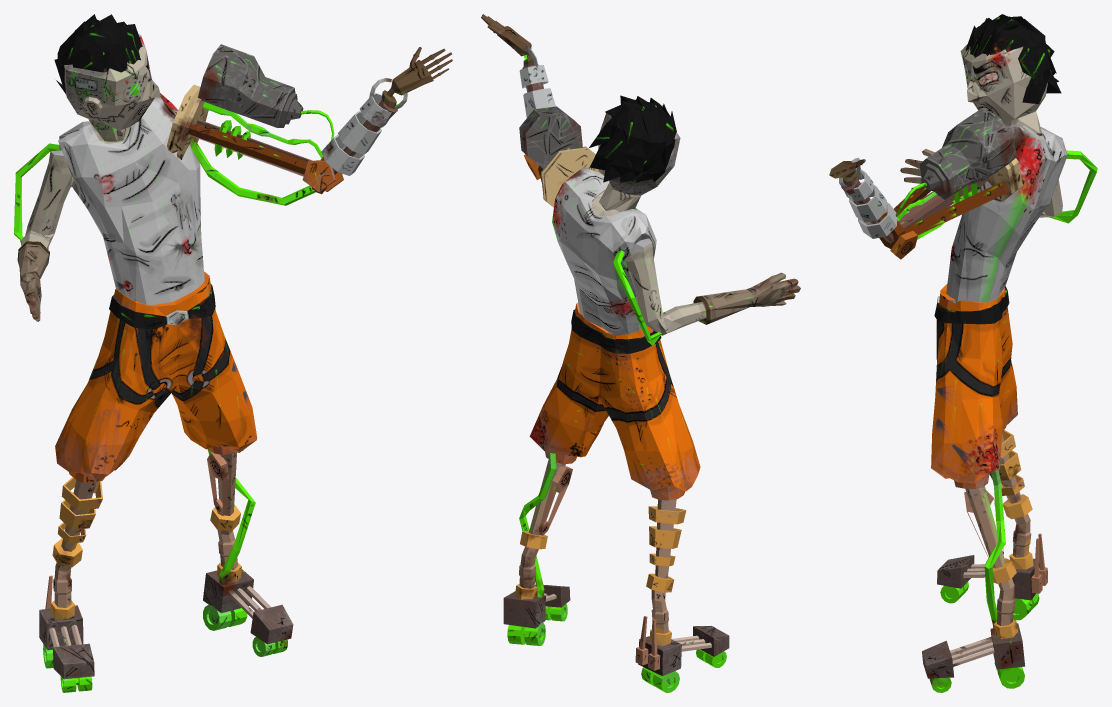
Rendered from CyborgFINALAnimation_000047.obj.
3 views of the same model, side by side, from view 1: azimuth 30°, elevation 25°; view 2: azimuth 150°, elevation 25°; view 3: azimuth 270°, elevation 25° (orthographic). The views are drawn at different scales.
Parts seen in each view (by area): view 1: CyborgMesh_Cube.002; view 2: CyborgMesh_Cube.002; view 3: CyborgMesh_Cube.002.
Boxes of the visible parts, bbox=[...] form: CyborgMesh_Cube.002: bbox=[14, 14, 452, 692]; CyborgMesh_Cube.002: bbox=[481, 14, 800, 692]; CyborgMesh_Cube.002: bbox=[829, 14, 1097, 692].
Size of the model in its own units: 6.02 by 9.55 by 3.79.
